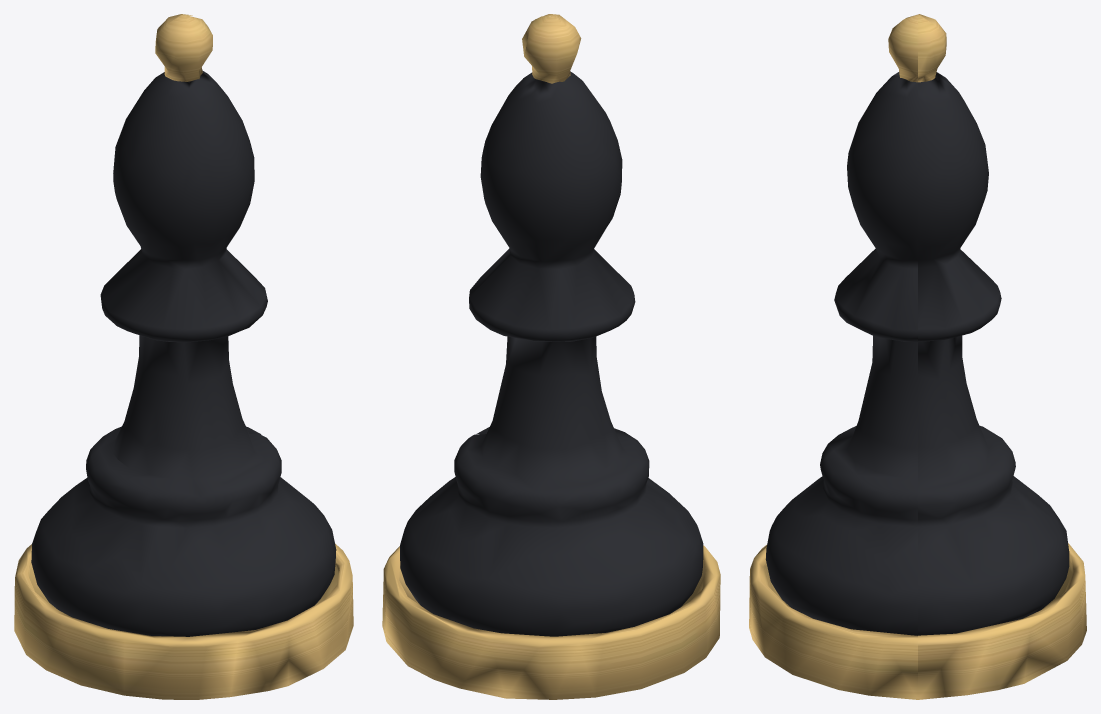
Rendered from aurum_bishop_black.glb.
3 views of the same model, side by side, from view 1: azimuth 30°, elevation 25°; view 2: azimuth 150°, elevation 25°; view 3: azimuth 270°, elevation 25° (orthographic).
Parts seen in each view (by area): view 1: Aurum Noir – Bishop; view 2: Aurum Noir – Bishop; view 3: Aurum Noir – Bishop.
Part boxes in pixels (x1,y1,x2,y2): Aurum Noir – Bishop: (14, 14, 353, 699); Aurum Noir – Bishop: (382, 14, 720, 699); Aurum Noir – Bishop: (749, 14, 1086, 699).
Bounding box in the file's own units: 0.0399 × 0.08 × 0.04.
2 materials, 1 textured.
